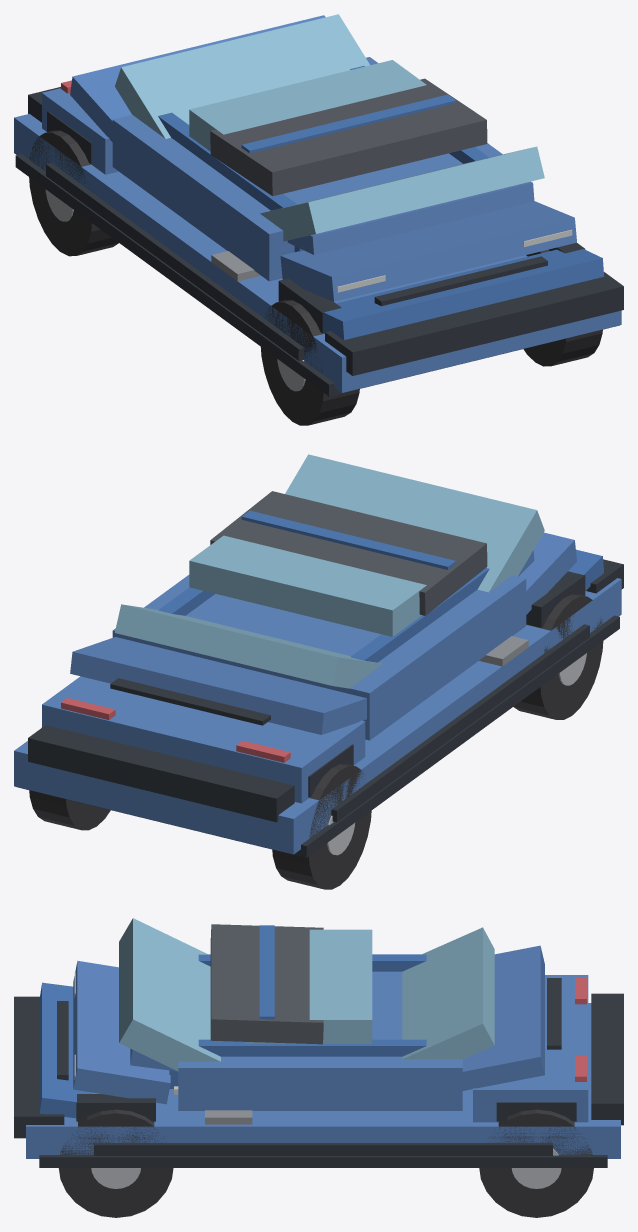
The model's file is sedan.glb.
The picture shows the model from 3 angles, top to bottom: view 1: azimuth 30°, elevation 25°; view 2: azimuth 150°, elevation 25°; view 3: azimuth 270°, elevation 25°; orthographic projection. The views are drawn at different scales.
Parts seen in each view (by area): view 1: g36, g22, g23, g19, g30, g32, g21, g31, g20, g29, g35, g40 (+11 smaller); view 2: g36, g23, g14, g20, g21, g15, g22, g13, g19, g44, g35, g34 (+14 smaller); view 3: g36, g23, g21, g22, g19, g30, g15, g20, g35, g14, g33, g42 (+15 smaller).
Part boxes in pixels (x1=…): g36: x1=14, y1=114, x2=621, y2=392; g22: x1=210, y1=78, x2=487, y2=196; g23: x1=112, y1=57, x2=502, y2=281; g19: x1=115, y1=14, x2=369, y2=138; g30: x1=280, y1=201, x2=576, y2=301; g32: x1=325, y1=272, x2=623, y2=375; g21: x1=260, y1=146, x2=544, y2=241; g31: x1=324, y1=249, x2=604, y2=339; g20: x1=189, y1=60, x2=426, y2=151; g29: x1=287, y1=181, x2=534, y2=254; g35: x1=15, y1=154, x2=619, y2=396; g40: x1=260, y1=300, x2=359, y2=425; g36: x1=14, y1=578, x2=621, y2=854; g23: x1=112, y1=575, x2=526, y2=740; g14: x1=42, y1=676, x2=365, y2=803; g20: x1=189, y1=535, x2=426, y2=636; g21: x1=285, y1=454, x2=544, y2=592; g15: x1=70, y1=637, x2=366, y2=734; g22: x1=210, y1=491, x2=487, y2=615; g13: x1=28, y1=725, x2=294, y2=822; g19: x1=115, y1=604, x2=382, y2=688; g44: x1=272, y1=764, x2=371, y2=889; g35: x1=18, y1=615, x2=619, y2=857; g34: x1=331, y1=624, x2=589, y2=822; g36: x1=26, y1=1003, x2=620, y2=1158; g23: x1=178, y1=954, x2=462, y2=1110; g21: x1=119, y1=918, x2=220, y2=1071; g22: x1=210, y1=924, x2=323, y2=1044; g19: x1=402, y1=927, x2=494, y2=1059; g30: x1=73, y1=960, x2=170, y2=1104; g15: x1=462, y1=945, x2=544, y2=1090; g20: x1=245, y1=929, x2=372, y2=1043; g35: x1=39, y1=1155, x2=607, y2=1167; g14: x1=473, y1=975, x2=588, y2=1122; g33: x1=94, y1=1143, x2=552, y2=1155; g42: x1=479, y1=1109, x2=593, y2=1217.
Size of the model in its own units: 2.72 by 1.84 by 5.44.
